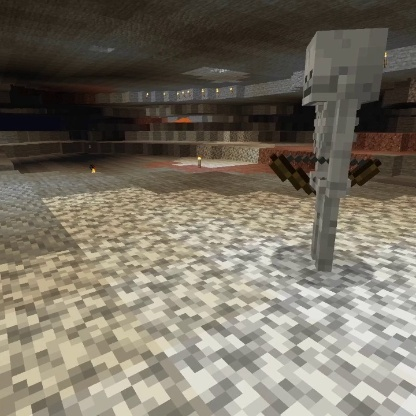skeleton: (264, 24, 393, 277)
